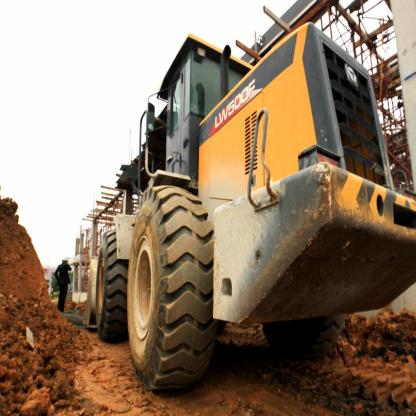bull_dozer/loader/grader: (69, 19, 406, 393)
person: (50, 253, 74, 318)
